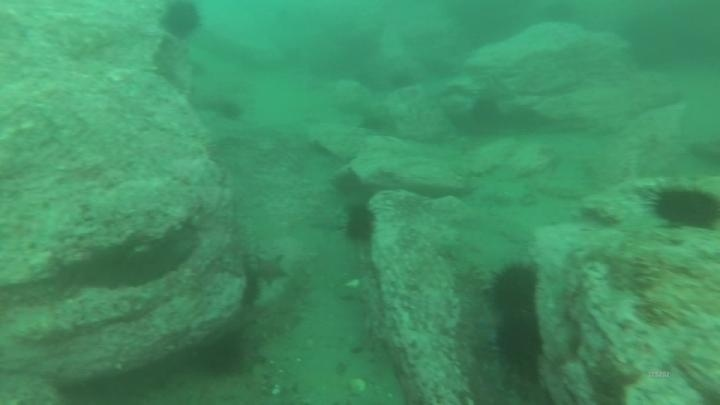echinus: (648, 183, 720, 232), (486, 260, 541, 317), (493, 314, 543, 370), (198, 331, 249, 378), (158, 2, 204, 42), (341, 202, 378, 246), (330, 167, 366, 200), (215, 97, 246, 123)
holothurian: (244, 289, 309, 345)
starfish: (249, 250, 291, 288)
